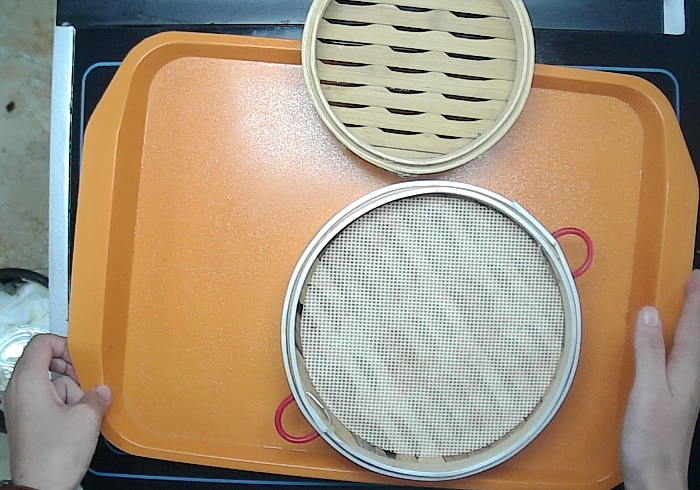ZNLD-Da_Zheng_Long: (253, 165, 606, 490)
ZNLD-Xiao_Zheng_Long: (291, 1, 539, 183)
